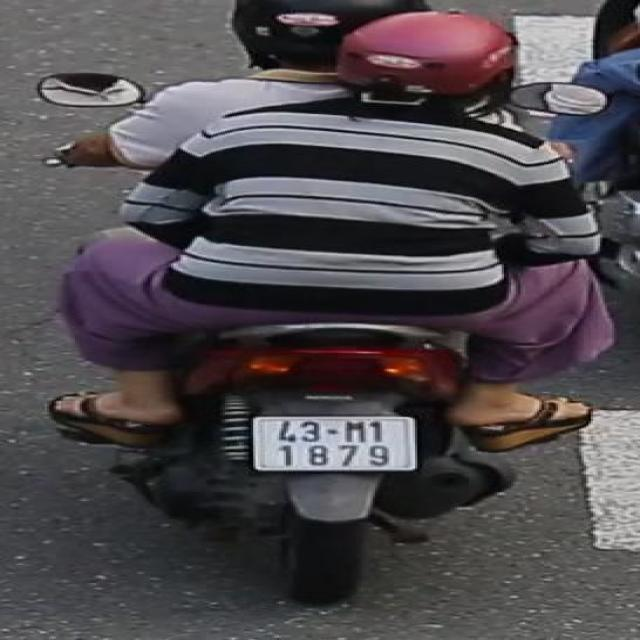LP: (248, 407, 426, 474)
helmet: (331, 8, 525, 114)
